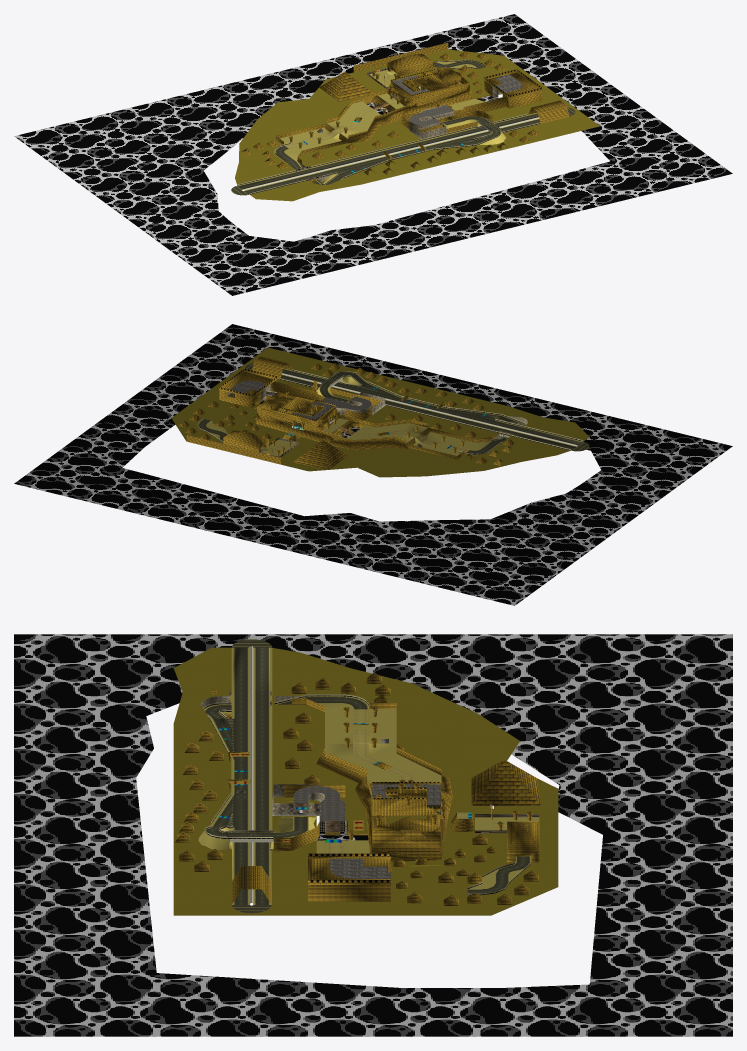
3 views of the same model, one above another, from view 1: azimuth 30°, elevation 25°; view 2: azimuth 150°, elevation 25°; view 3: azimuth 270°, elevation 25° (orthographic). The views are drawn at different scales.
Parts seen in each view (by area): view 1: Spurcry_RoadUPDATEv1_7_SKP__Water___ef_sea.001, Spurcry_RoadUPDATEv1_7_SKP__Solid_Fall___Solid_Fall.001, Spurcry_RoadUPDATEv1_7_SKP__S_Block___S_Block.001, Spurcry_RoadUPDATEv1_7_SKP__Road2___Road2.001, Spurcry_RoadUPDATEv1_7_SKP__Sand_Spuck___Sand_Spuck.001, Spurcry_RoadUPDATEv1_7_SKP__Gardrull___Gardrull.001, Spurcry_RoadUPDATEv1_7_SKP__Iwa___Iwa.001, Spurcry_RoadUPDATEv1_7_SKP__Wall___Wall.001, Spurcry_RoadUPDATEv1_7_SKP__Wall2___Wall2.001, Spurcry_RoadUPDATEv1_7_SKP__Wall1___Wall1.001, Spurcry_RoadUPDATEv1_7_SKP__Sabaku_Road___Sabaku_Road.001; view 2: Spurcry_RoadUPDATEv1_7_SKP__Water___ef_sea.001, Spurcry_RoadUPDATEv1_7_SKP__Solid_Fall___Solid_Fall.001, Spurcry_RoadUPDATEv1_7_SKP__S_Block___S_Block.001, Spurcry_RoadUPDATEv1_7_SKP__Road2___Road2.001, Spurcry_RoadUPDATEv1_7_SKP__Sand_Spuck___Sand_Spuck.001, Spurcry_RoadUPDATEv1_7_SKP__Gardrull___Gardrull.001, Spurcry_RoadUPDATEv1_7_SKP__Iwa___Iwa.001, Spurcry_RoadUPDATEv1_7_SKP__Wall2___Wall2.001, Spurcry_RoadUPDATEv1_7_SKP__Sabaku_Road___Sabaku_Road.001, Spurcry_RoadUPDATEv1_7_SKP__Wall1___Wall1.001, Spurcry_RoadUPDATEv1_7_SKP__Wall___Wall.001, Spurcry_RoadUPDATEv1_7_SKP__kanban___kanban.001; view 3: Spurcry_RoadUPDATEv1_7_SKP__Water___ef_sea.001, Spurcry_RoadUPDATEv1_7_SKP__Solid_Fall___Solid_Fall.001, Spurcry_RoadUPDATEv1_7_SKP__S_Block___S_Block.001, Spurcry_RoadUPDATEv1_7_SKP__Road2___Road2.001, Spurcry_RoadUPDATEv1_7_SKP__Sand_Spuck___Sand_Spuck.001, Spurcry_RoadUPDATEv1_7_SKP__Iwa___Iwa.001, Spurcry_RoadUPDATEv1_7_SKP__Wall2___Wall2.001, Spurcry_RoadUPDATEv1_7_SKP__Sabaku_Road___Sabaku_Road.001, Spurcry_RoadUPDATEv1_7_SKP__Wall___Wall.001, Spurcry_RoadUPDATEv1_7_SKP__Gardrull___Gardrull.001, Spurcry_RoadUPDATEv1_7_SKP__Wall1___Wall1.001.
Boxes of the visible parts, left/top/right/bottom form: Spurcry_RoadUPDATEv1_7_SKP__Water___ef_sea.001: left=14, top=14, right=732, bottom=295; Spurcry_RoadUPDATEv1_7_SKP__Solid_Fall___Solid_Fall.001: left=235, top=49, right=599, bottom=201; Spurcry_RoadUPDATEv1_7_SKP__S_Block___S_Block.001: left=242, top=42, right=569, bottom=184; Spurcry_RoadUPDATEv1_7_SKP__Road2___Road2.001: left=231, top=60, right=575, bottom=195; Spurcry_RoadUPDATEv1_7_SKP__Sand_Spuck___Sand_Spuck.001: left=238, top=61, right=538, bottom=190; Spurcry_RoadUPDATEv1_7_SKP__Gardrull___Gardrull.001: left=237, top=59, right=540, bottom=194; Spurcry_RoadUPDATEv1_7_SKP__Iwa___Iwa.001: left=319, top=74, right=522, bottom=133; Spurcry_RoadUPDATEv1_7_SKP__Wall___Wall.001: left=299, top=76, right=502, bottom=181; Spurcry_RoadUPDATEv1_7_SKP__Wall2___Wall2.001: left=390, top=69, right=542, bottom=98; Spurcry_RoadUPDATEv1_7_SKP__Wall1___Wall1.001: left=243, top=117, right=538, bottom=190; Spurcry_RoadUPDATEv1_7_SKP__Sabaku_Road___Sabaku_Road.001: left=285, top=71, right=463, bottom=148; Spurcry_RoadUPDATEv1_7_SKP__Water___ef_sea.001: left=14, top=324, right=732, bottom=605; Spurcry_RoadUPDATEv1_7_SKP__Solid_Fall___Solid_Fall.001: left=171, top=347, right=589, bottom=477; Spurcry_RoadUPDATEv1_7_SKP__S_Block___S_Block.001: left=178, top=356, right=530, bottom=469; Spurcry_RoadUPDATEv1_7_SKP__Road2___Road2.001: left=198, top=363, right=589, bottom=453; Spurcry_RoadUPDATEv1_7_SKP__Sand_Spuck___Sand_Spuck.001: left=206, top=368, right=582, bottom=456; Spurcry_RoadUPDATEv1_7_SKP__Gardrull___Gardrull.001: left=197, top=369, right=583, bottom=454; Spurcry_RoadUPDATEv1_7_SKP__Iwa___Iwa.001: left=230, top=380, right=417, bottom=446; Spurcry_RoadUPDATEv1_7_SKP__Wall2___Wall2.001: left=219, top=368, right=336, bottom=421; Spurcry_RoadUPDATEv1_7_SKP__Sabaku_Road___Sabaku_Road.001: left=261, top=424, right=469, bottom=453; Spurcry_RoadUPDATEv1_7_SKP__Wall1___Wall1.001: left=281, top=373, right=577, bottom=446; Spurcry_RoadUPDATEv1_7_SKP__Wall___Wall.001: left=227, top=384, right=527, bottom=439; Spurcry_RoadUPDATEv1_7_SKP__kanban___kanban.001: left=262, top=372, right=577, bottom=447; Spurcry_RoadUPDATEv1_7_SKP__Water___ef_sea.001: left=14, top=634, right=732, bottom=1036; Spurcry_RoadUPDATEv1_7_SKP__Solid_Fall___Solid_Fall.001: left=173, top=647, right=558, bottom=915; Spurcry_RoadUPDATEv1_7_SKP__S_Block___S_Block.001: left=175, top=672, right=540, bottom=905; Spurcry_RoadUPDATEv1_7_SKP__Road2___Road2.001: left=204, top=639, right=530, bottom=913; Spurcry_RoadUPDATEv1_7_SKP__Sand_Spuck___Sand_Spuck.001: left=198, top=647, right=539, bottom=904; Spurcry_RoadUPDATEv1_7_SKP__Iwa___Iwa.001: left=293, top=739, right=440, bottom=878; Spurcry_RoadUPDATEv1_7_SKP__Wall2___Wall2.001: left=308, top=782, right=440, bottom=884; Spurcry_RoadUPDATEv1_7_SKP__Sabaku_Road___Sabaku_Road.001: left=325, top=709, right=506, bottom=853; Spurcry_RoadUPDATEv1_7_SKP__Wall___Wall.001: left=200, top=696, right=413, bottom=833; Spurcry_RoadUPDATEv1_7_SKP__Gardrull___Gardrull.001: left=203, top=694, right=530, bottom=895; Spurcry_RoadUPDATEv1_7_SKP__Wall1___Wall1.001: left=230, top=646, right=273, bottom=903.
Size of the model in its own units: 293367 by 30470 by 221499.
26 materials, 25 textured.
